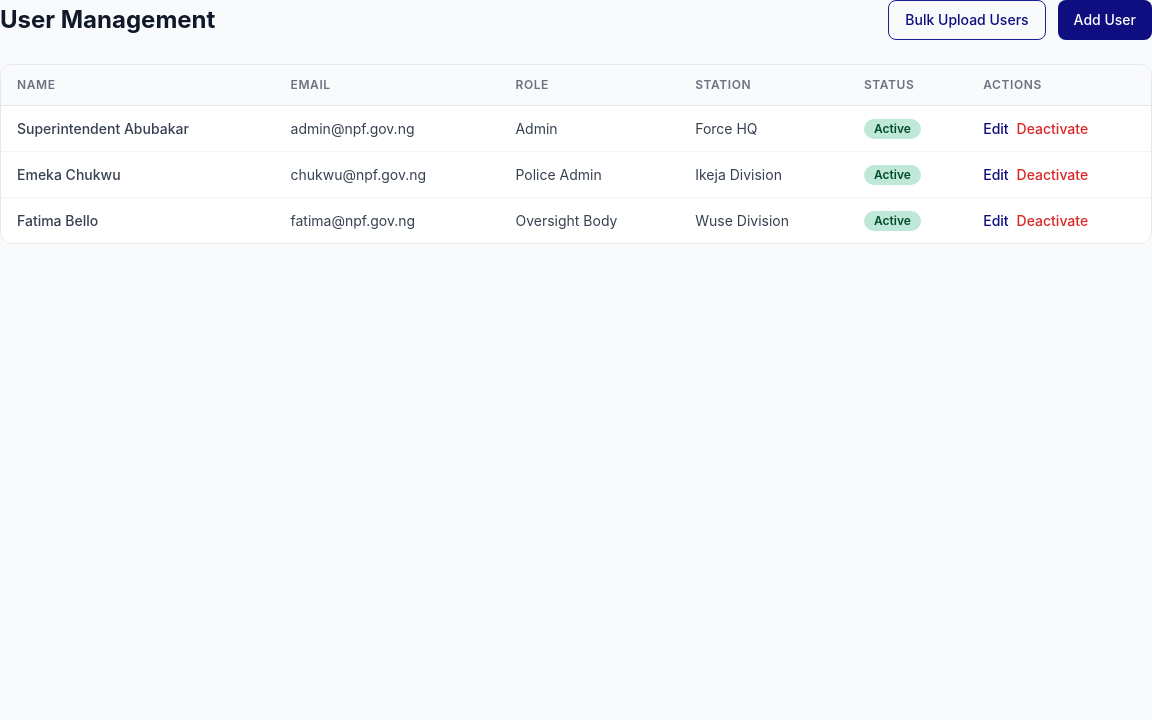
Test case: UserManagementPage › opens bulk upload modal
Click the button "Bulk Upload Users". click: (967, 20)
box: [888,0,1046,40]
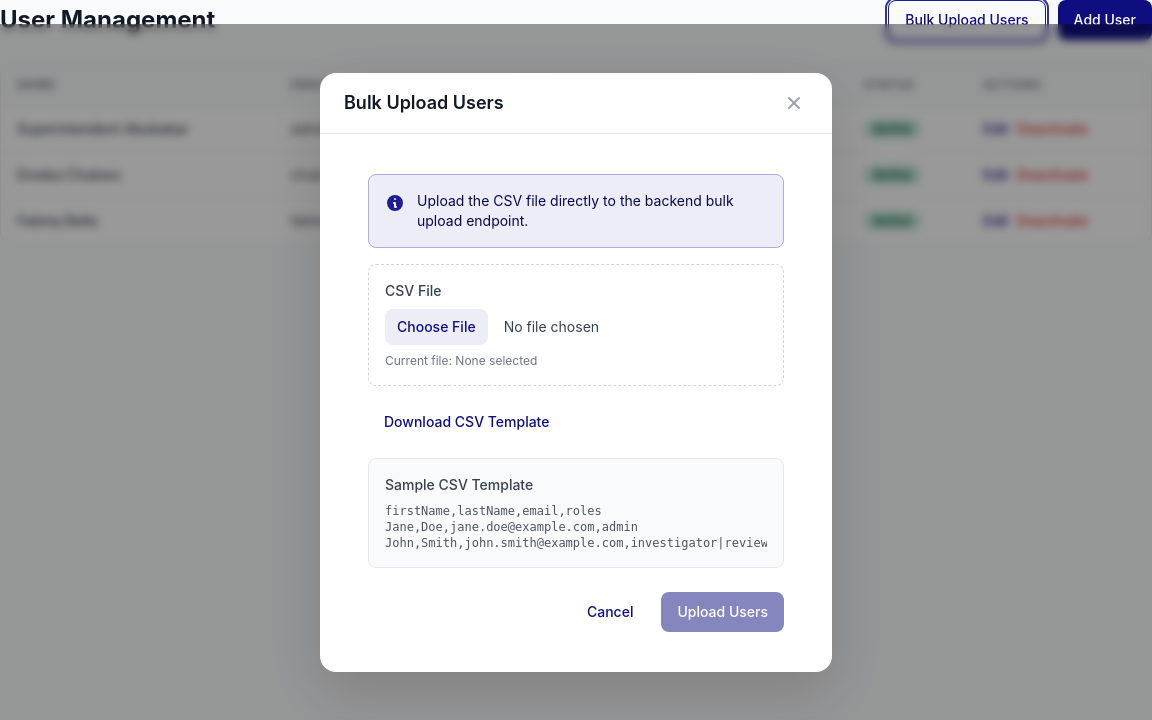
Expected: the dialog is shown
Expected: the heading "Bulk Upload Users" is shown, [344,88,504,116]
Expected: the file field labelled "CSV File" is shown, [385,308,767,344]
